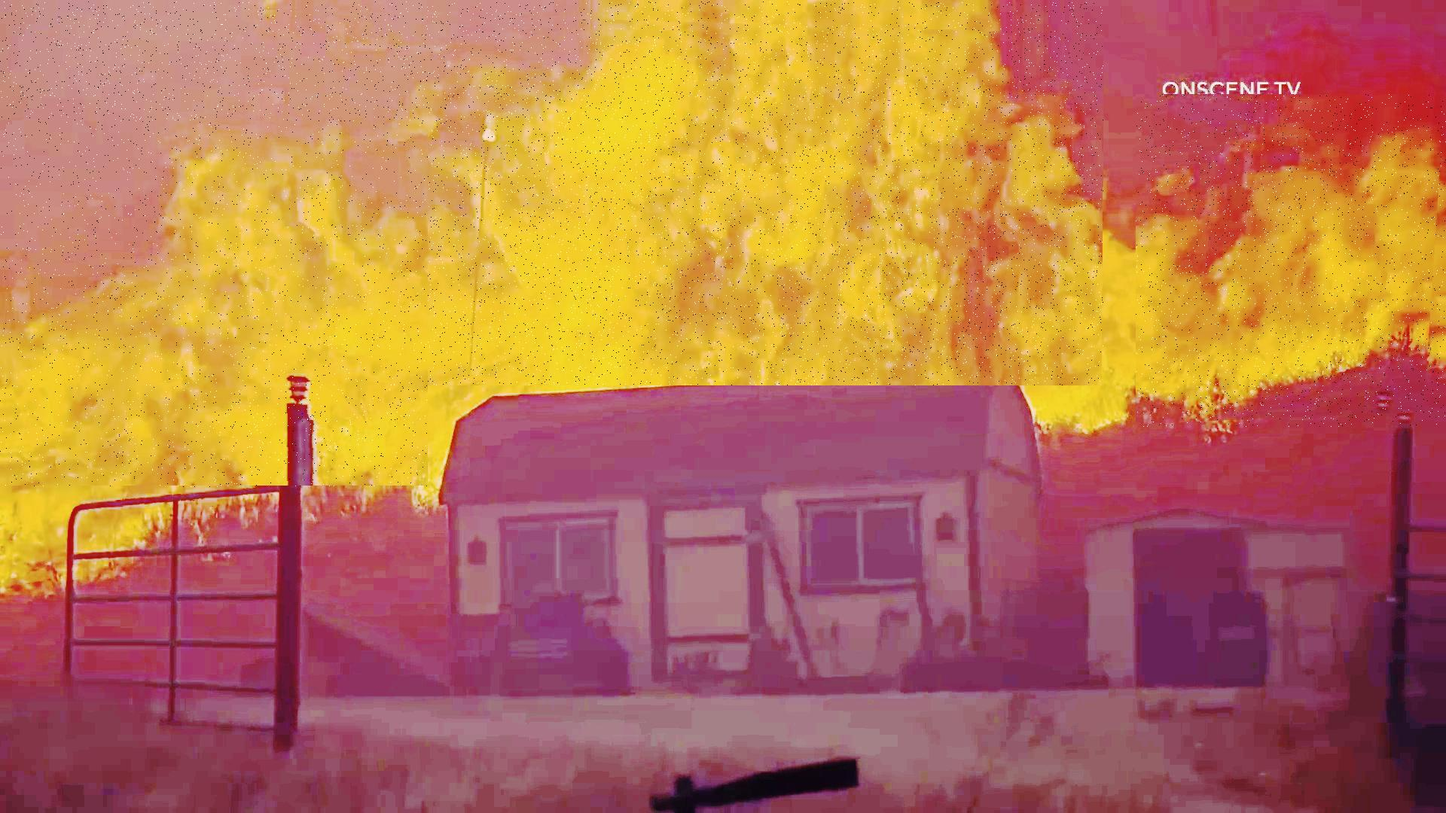fire: (0, 2, 1103, 385), (0, 121, 428, 488), (1136, 95, 1446, 428)
